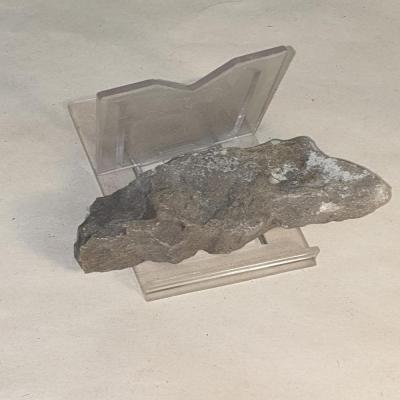mineralogy: (73, 136, 393, 275)
